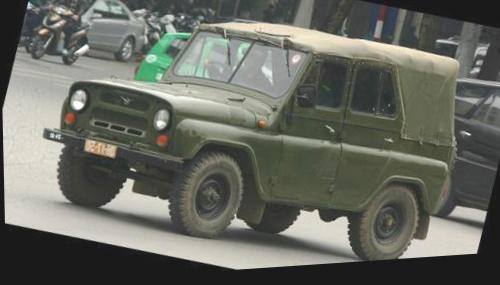License_Plate: (82, 135, 122, 164)
